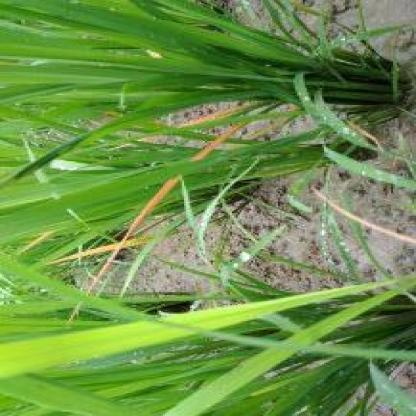Tungro: (2, 289, 402, 378)
